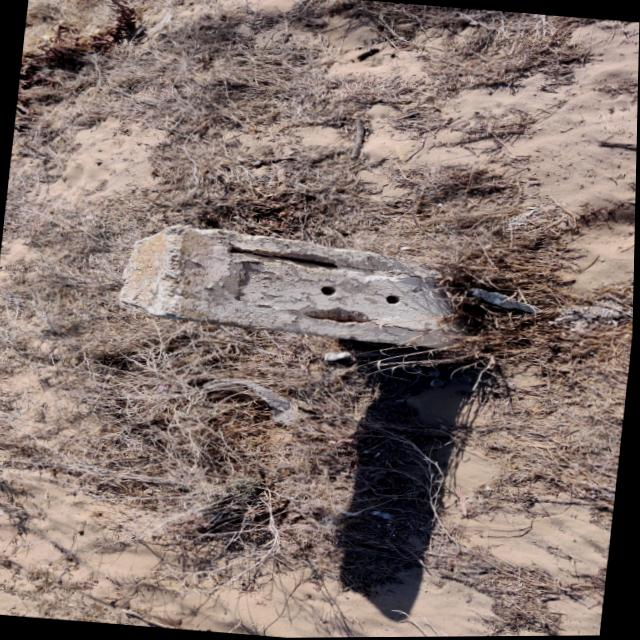Can-Metal: (462, 285, 552, 316)
Paper: (313, 345, 360, 366), (423, 378, 450, 389)
Plastic: (198, 373, 313, 429)
